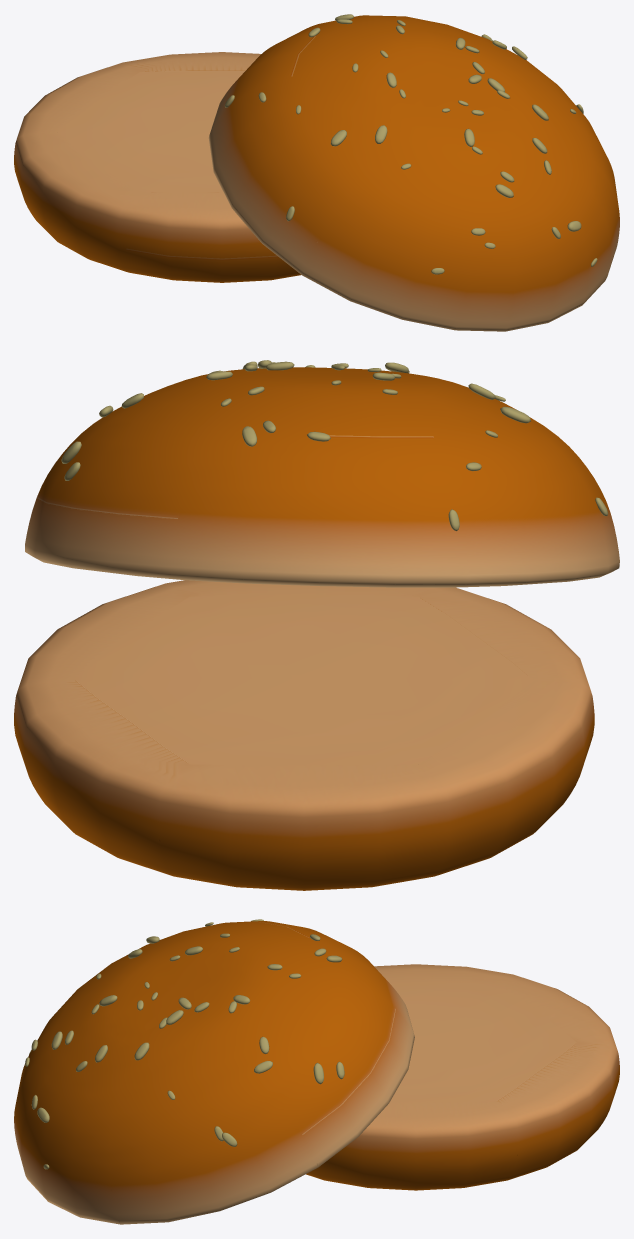
The model's file is bread.glb.
3 views of the same model, one above another, from view 1: azimuth 30°, elevation 25°; view 2: azimuth 150°, elevation 25°; view 3: azimuth 270°, elevation 25° (orthographic). The views are drawn at different scales.
Size of the model in its own units: 1.42 by 0.6426 by 1.68.
3 materials, 2 textured.
